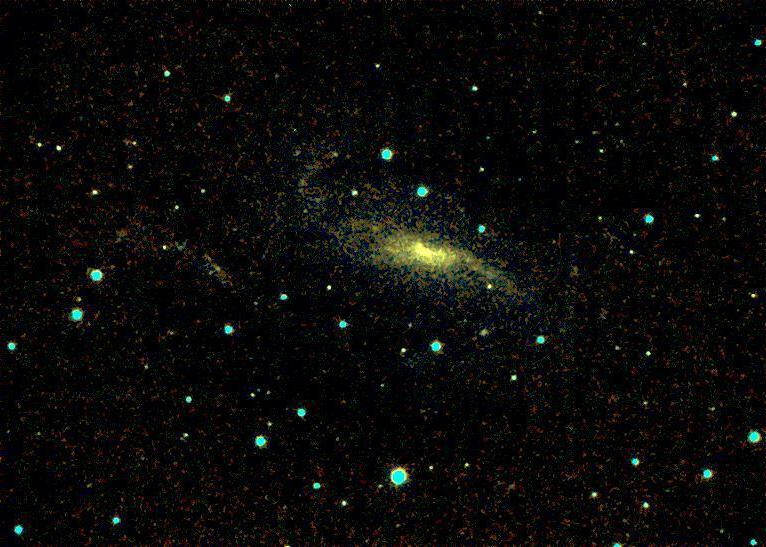star: (403, 232, 433, 262)
